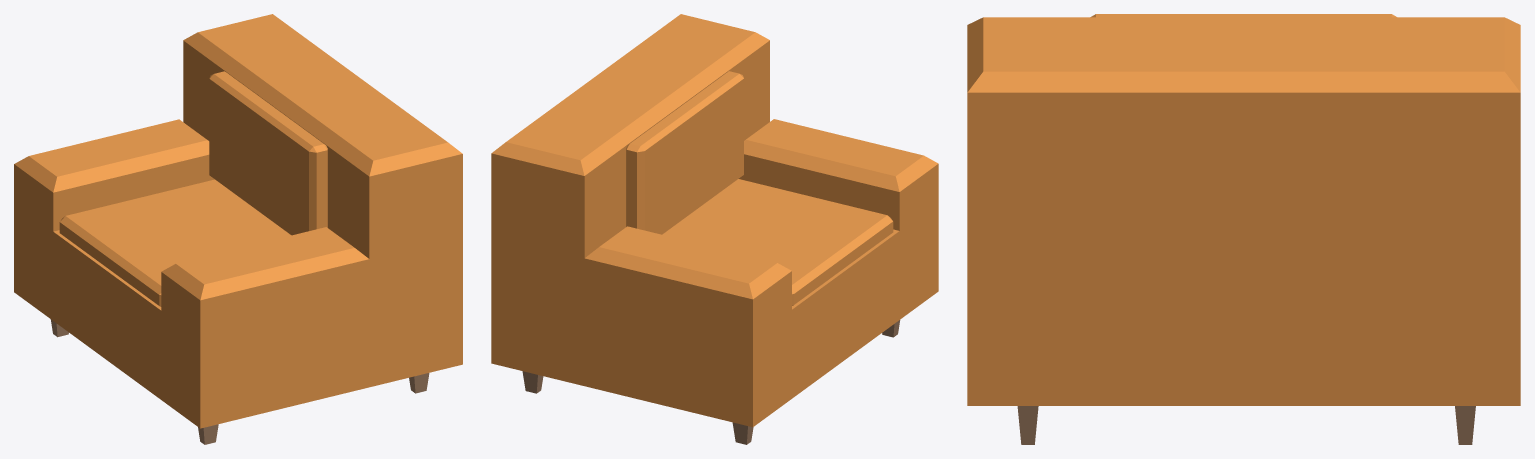
The model's file is Sala_Sillon_07.fbx.
3 renders of one model, left to right at view 1: azimuth 30°, elevation 25°; view 2: azimuth 150°, elevation 25°; view 3: azimuth 270°, elevation 25°, orthographic. The views are drawn at different scales.
Visible parts, largest first — view 1: sillon; view 2: sillon; view 3: sillon.
Boxes of the visible parts, left/top/right/bottom form: sillon: left=14, top=14, right=462, bottom=444; sillon: left=491, top=14, right=938, bottom=444; sillon: left=967, top=14, right=1520, bottom=444.
Bounding box in the file's own units: 54.52 × 50.74 × 67.
Materials: 2 (2 with a texture image).
